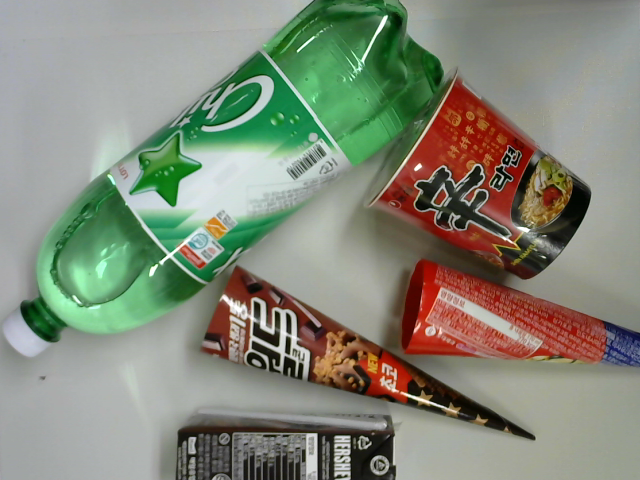Chilseong_Cider_1.5L: (1, 1, 444, 360)
Choco_E_Mong: (168, 409, 399, 480)
Sinramen_small: (360, 65, 592, 283)
World_Cone_Banila: (397, 257, 640, 366)
World_Cone_Choco: (197, 266, 537, 441)
